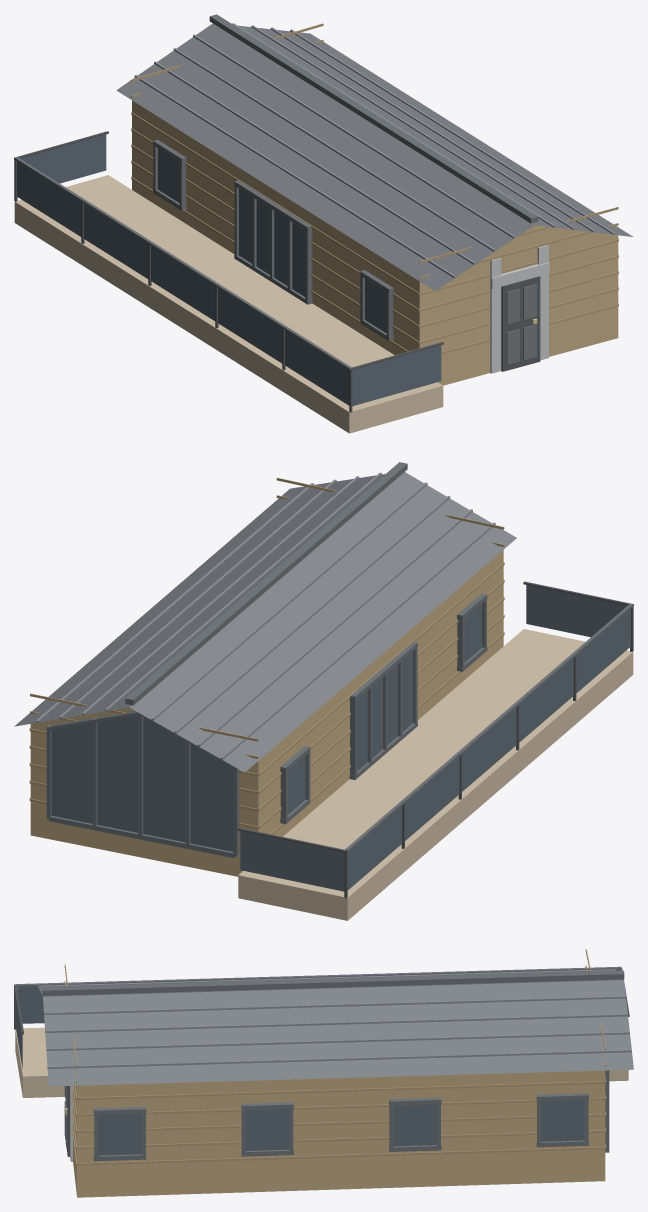
3 views of the same model, one above another, from view 1: azimuth 30°, elevation 25°; view 2: azimuth 150°, elevation 25°; view 3: azimuth 270°, elevation 25° (orthographic). The views are drawn at different scales.
Visible parts, largest first — view 1: slate, door_wood, larch, slate_dk, slate_lt, door_wood_p, window_glass_007, stone_band, window_glass_006, window_glass_004, window_glass_001, window_glass_002 (+11 smaller); view 2: slate, larch, door_wood, window_glass_014, slate_dk, slate_lt, door_wood_p, window_glass_006, window_glass_007, window_glass_001, window_glass_005, window_glass_002 (+9 smaller); view 3: slate, door_wood, slate_dk, slate_lt, door_wood_p, larch, window_glass_017, window_glass_015, window_glass_016, window_glass_018, window_glass_005.
Part boxes in pixels (bbox=[...]): slate: bbox=[116, 23, 632, 290]; door_wood: bbox=[132, 100, 618, 385]; larch: bbox=[14, 175, 443, 433]; slate_dk: bbox=[15, 14, 538, 369]; slate_lt: bbox=[134, 23, 614, 278]; door_wood_p: bbox=[131, 23, 618, 354]; window_glass_007: bbox=[352, 345, 441, 406]; stone_band: bbox=[490, 245, 549, 373]; window_glass_006: bbox=[20, 134, 106, 183]; window_glass_004: bbox=[218, 288, 282, 363]; window_glass_001: bbox=[17, 161, 81, 236]; window_glass_002: bbox=[84, 203, 148, 278]; slate: bbox=[14, 472, 516, 772]; larch: bbox=[238, 629, 633, 920]; door_wood: bbox=[30, 550, 503, 876]; window_glass_014: bbox=[51, 715, 233, 851]; slate_dk: bbox=[46, 462, 633, 858]; slate_lt: bbox=[36, 472, 495, 759]; door_wood_p: bbox=[29, 477, 504, 842]; window_glass_006: bbox=[240, 831, 344, 891]; window_glass_007: bbox=[526, 585, 626, 637]; window_glass_001: bbox=[347, 806, 402, 890]; window_glass_005: bbox=[576, 609, 630, 693]; window_glass_002: bbox=[405, 756, 459, 840]; slate: bbox=[37, 974, 633, 1086]; door_wood: bbox=[73, 970, 605, 1197]; slate_dk: bbox=[15, 966, 624, 1161]; slate_lt: bbox=[38, 969, 631, 1068]; door_wood_p: bbox=[64, 949, 606, 1165]; larch: bbox=[15, 1027, 628, 1097]; window_glass_017: bbox=[393, 1104, 436, 1146]; window_glass_015: bbox=[98, 1113, 141, 1155]; window_glass_016: bbox=[246, 1109, 289, 1150]; window_glass_018: bbox=[541, 1100, 584, 1141]; window_glass_005: bbox=[17, 987, 44, 1023].
Size of the model in its own units: 8.31 by 3.69 by 13.04.
